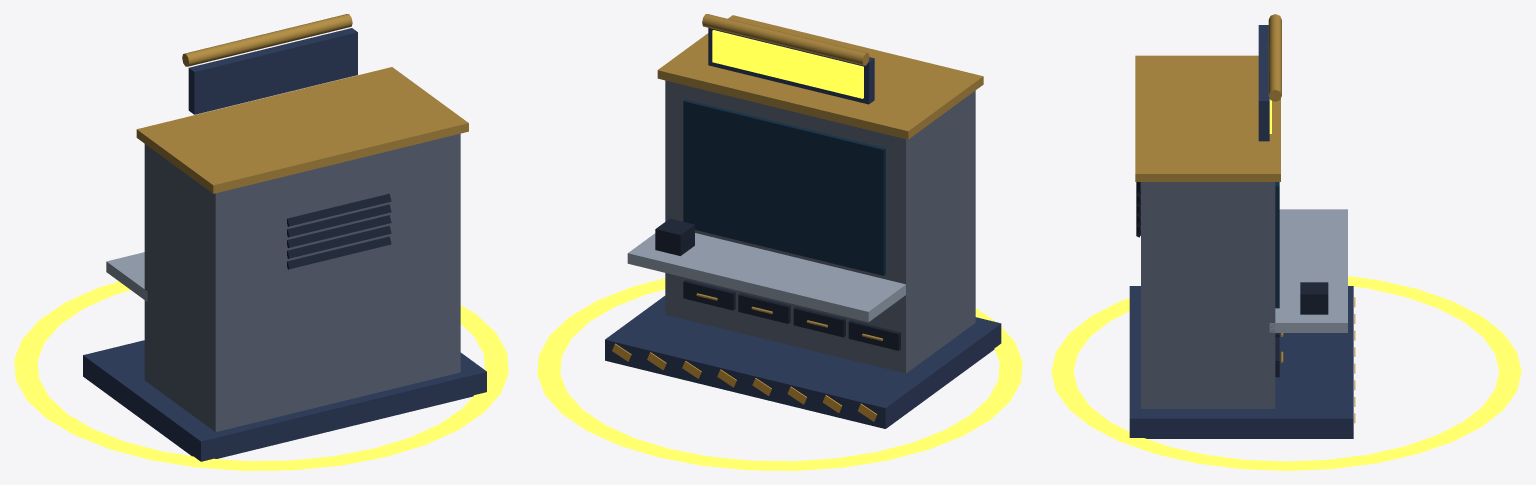
The model's file is shared_armory_kiosk.glb.
The picture shows the model from 3 angles, left to right: view 1: azimuth 30°, elevation 25°; view 2: azimuth 150°, elevation 25°; view 3: azimuth 270°, elevation 25°; orthographic projection. The views are drawn at different scales.
Visible parts, largest first — view 1: armory_cabinet, armory_cabinet_trim, armory_plinth, armory_floor_ring, armory_sign, armory_vents, armory_sign_lamp, armory_bench; view 2: armory_cabinet, armory_window, armory_plinth, armory_cabinet_trim, armory_bench, armory_floor_ring, armory_sign_face, armory_sign_lamp, armory_sign, armory_hazard, armory_bench_vise, armory_drawer3 (+3 smaller); view 3: armory_cabinet, armory_cabinet_trim, armory_plinth, armory_floor_ring, armory_bench, armory_sign, armory_sign_lamp, armory_bench_vise, armory_window.
Boxes of the visible parts, x1,y1,x2,y2 form: armory_cabinet: [144, 133, 460, 432]; armory_cabinet_trim: [136, 67, 468, 193]; armory_plinth: [83, 340, 486, 461]; armory_floor_ring: [14, 281, 508, 470]; armory_sign: [188, 28, 357, 114]; armory_vents: [287, 193, 391, 269]; armory_sign_lamp: [182, 14, 352, 66]; armory_bench: [106, 252, 147, 301]; armory_cabinet: [665, 80, 975, 373]; armory_window: [683, 99, 885, 275]; armory_plinth: [605, 296, 1001, 428]; armory_cabinet_trim: [657, 15, 983, 139]; armory_bench: [627, 233, 905, 322]; armory_floor_ring: [537, 278, 1022, 470]; armory_sign_face: [712, 30, 863, 98]; armory_sign_lamp: [702, 14, 869, 65]; armory_sign: [708, 28, 874, 104]; armory_hazard: [612, 343, 877, 421]; armory_bench_vise: [655, 218, 694, 255]; armory_drawer3: [683, 280, 735, 310]; armory_cabinet: [1141, 182, 1275, 408]; armory_cabinet_trim: [1135, 55, 1280, 181]; armory_plinth: [1129, 286, 1353, 438]; armory_floor_ring: [1051, 276, 1521, 470]; armory_bench: [1269, 209, 1347, 332]; armory_sign: [1258, 25, 1269, 141]; armory_sign_lamp: [1268, 14, 1281, 101]; armory_bench_vise: [1300, 282, 1328, 314]; armory_window: [1275, 182, 1279, 308].
Bounding box in the file's own units: 4.2 × 3.16 × 4.2.
